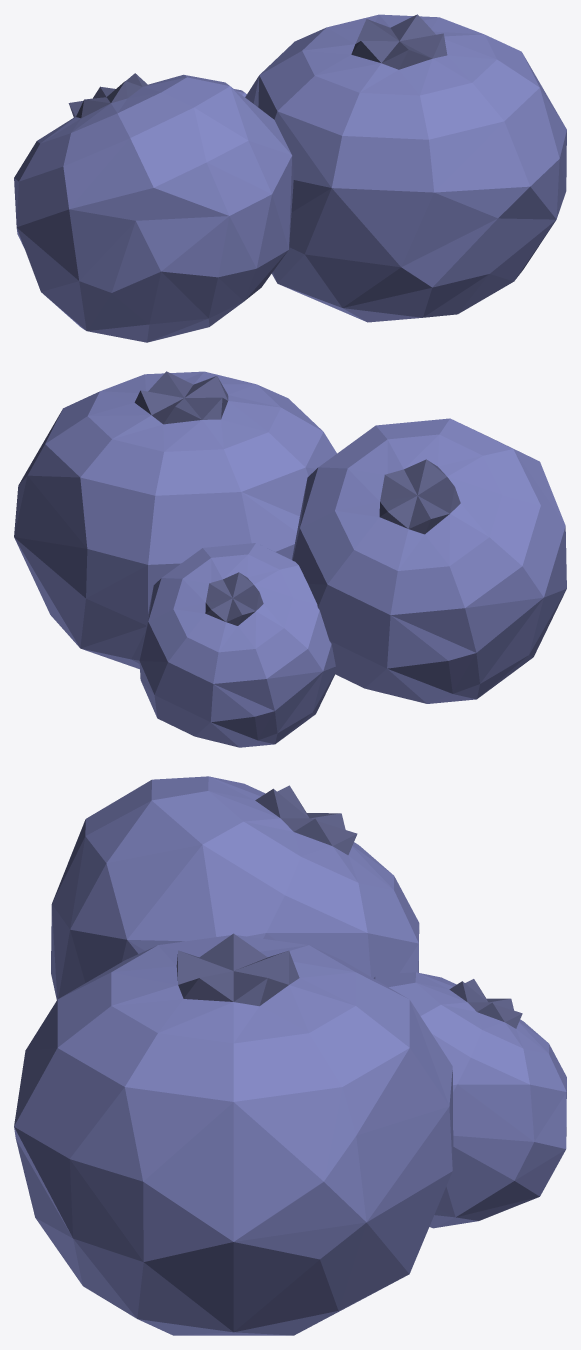
File: blueberries.fbx
The picture shows the model from 3 angles, top to bottom: view 1: azimuth 30°, elevation 25°; view 2: azimuth 150°, elevation 25°; view 3: azimuth 270°, elevation 25°; orthographic projection. The views are drawn at different scales.
Parts seen in each view (by area): view 1: blueberry, blueberry1; view 2: blueberry1, blueberry, blueberry2; view 3: blueberry, blueberry1, blueberry2.
Boxes of the visible parts, left/top/right/bottom form: blueberry: left=245, top=14, right=566, bottom=322; blueberry1: left=14, top=73, right=293, bottom=342; blueberry1: left=292, top=418, right=566, bottom=703; blueberry: left=14, top=371, right=336, bottom=669; blueberry2: left=139, top=543, right=335, bottom=747; blueberry: left=14, top=933, right=453, bottom=1335; blueberry1: left=51, top=776, right=419, bottom=999; blueberry2: left=373, top=972, right=566, bottom=1228.
Size of the model in its own units: 1.15 by 0.5914 by 0.8029.
